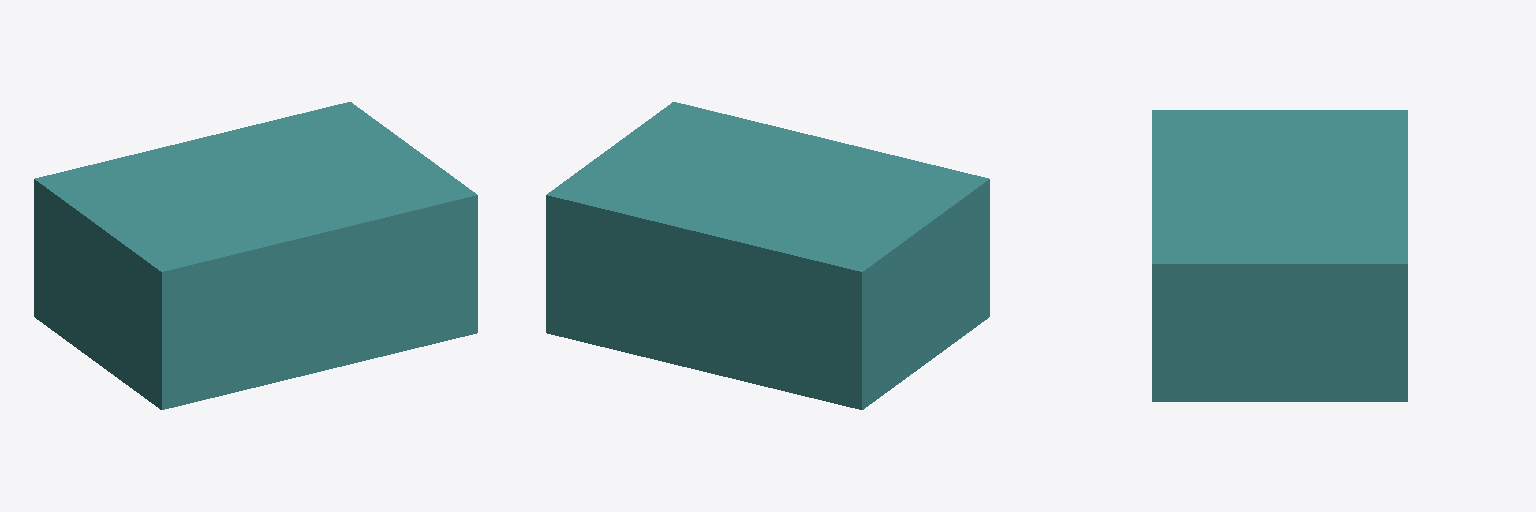
The model's file is grundflaeche3.obj.
3 views of the same model, side by side, from view 1: azimuth 30°, elevation 25°; view 2: azimuth 150°, elevation 25°; view 3: azimuth 270°, elevation 25° (orthographic).
Bounding box in the file's own units: 16.64 × 6.94 × 11.62.